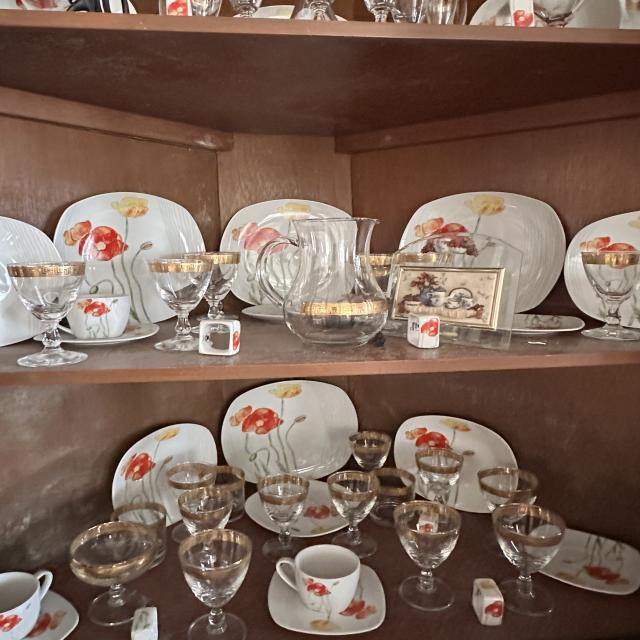hidden camera: (372, 339, 383, 348)
